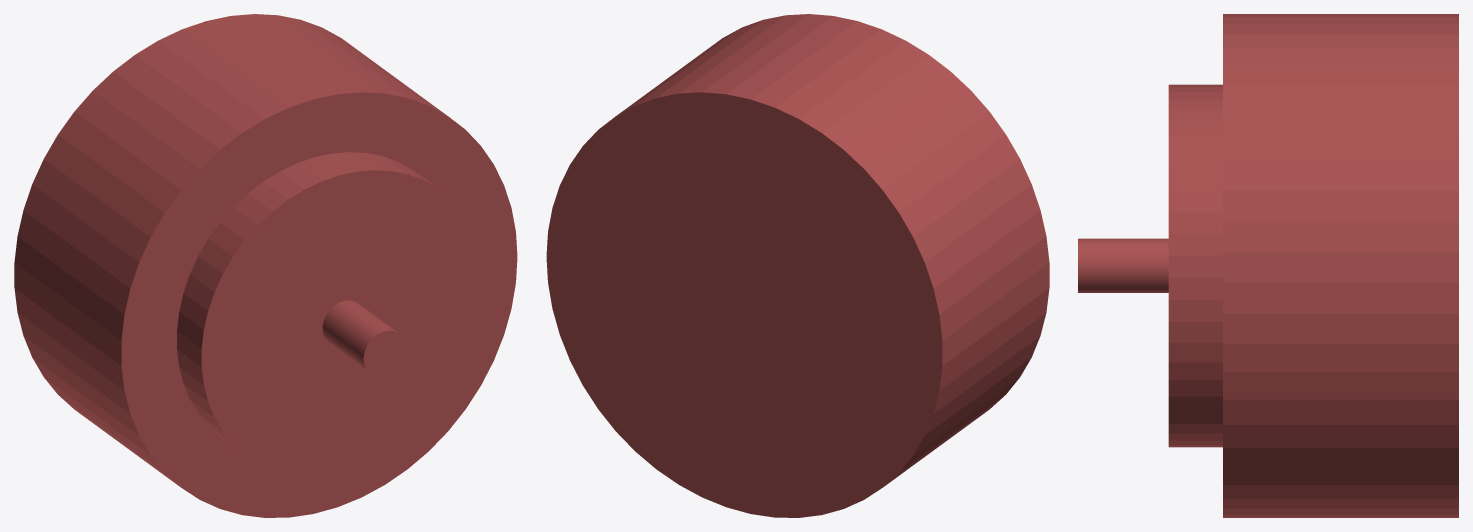
The model's file is MOT-L.glb.
3 renders of one model, left to right at view 1: azimuth 30°, elevation 25°; view 2: azimuth 150°, elevation 25°; view 3: azimuth 270°, elevation 25°, orthographic. The views are drawn at different scales.
Visible parts, largest first — view 1: geometry_0; view 2: geometry_0; view 3: geometry_0.
Part boxes in pixels (x1,y1,x2,y2): geometry_0: (14, 14, 517, 517); geometry_0: (546, 14, 1049, 517); geometry_0: (1078, 14, 1458, 517).
Size of the model in its own units: 55.55 by 55.57 by 42.
